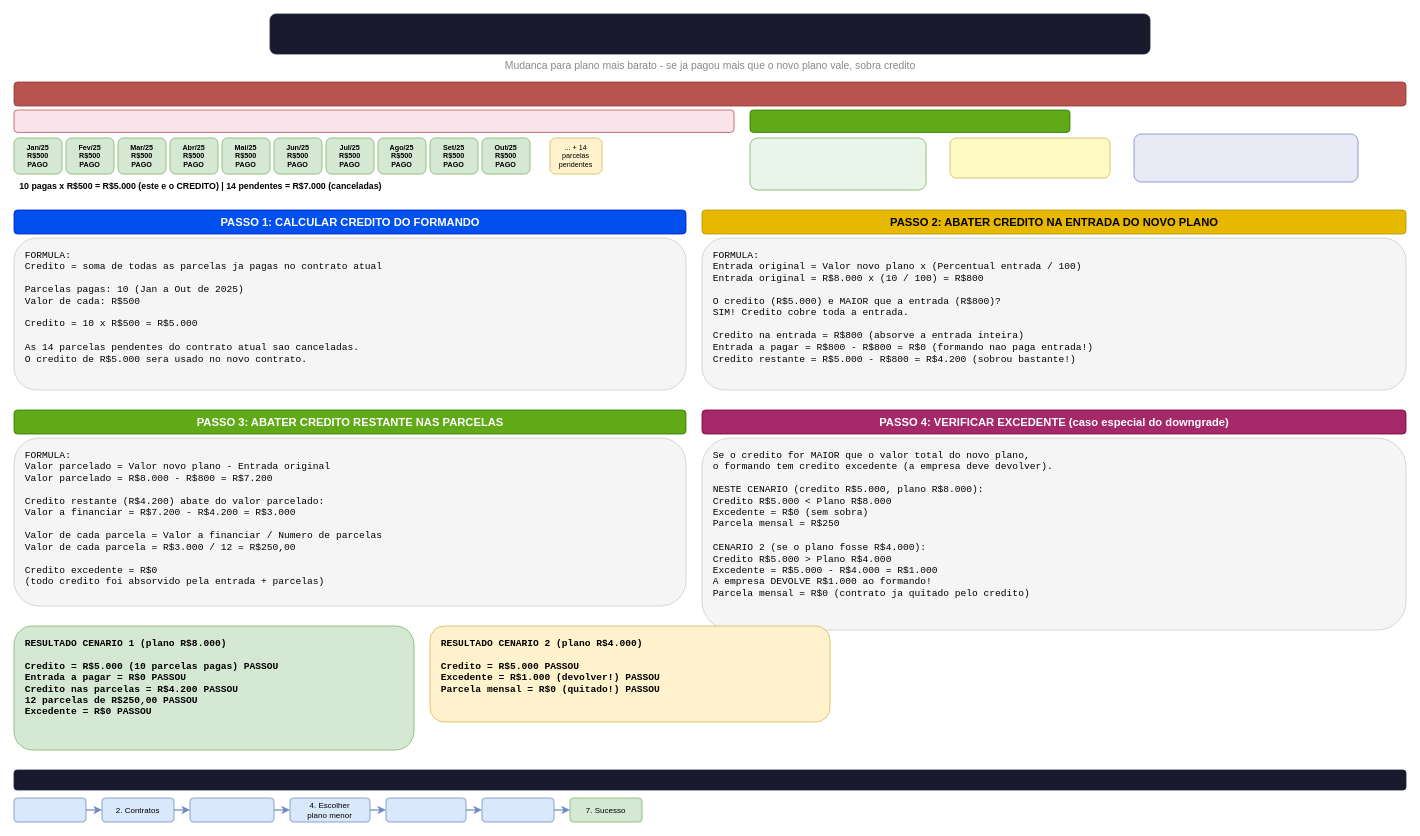
This 1420x836 diagram has some shape labels left out. The centre of each missing label's shape, as x and y in pixels:
"1. Login" belongs at (x=49, y=809).
"3. Acoes > Downgrade" belongs at (x=231, y=809).
"5. Parcelas (sliders)" belongs at (x=425, y=809).
"6. Confirmar" belongs at (x=517, y=809).
"Contrato #67890 | Plano Ouro R$12.000 | 24x de R$500 | Inicio Jan/2025" belongs at (x=373, y=120).
"CONTRATO ATUAL (vai ser cancelado)" belongs at (x=709, y=93).
"CREDITO = R$5.000 (tudo que ja pagou)" belongs at (x=1029, y=157).
"Diferenca entre planos: R$8.000 - R$12.000 = -R$4.000 (plano mais barato)" belongs at (x=1245, y=157).
"DOWNGRADE DE PLANO" belongs at (x=709, y=33).
"FLUXO NO PORTAL" belongs at (x=709, y=779).
"NOVO PLANO (downgrade)" belongs at (x=909, y=120).
"Plano Prata R$8.000 Entrada: 10% = R$800 Parcelas: 12x" belongs at (x=837, y=163).
